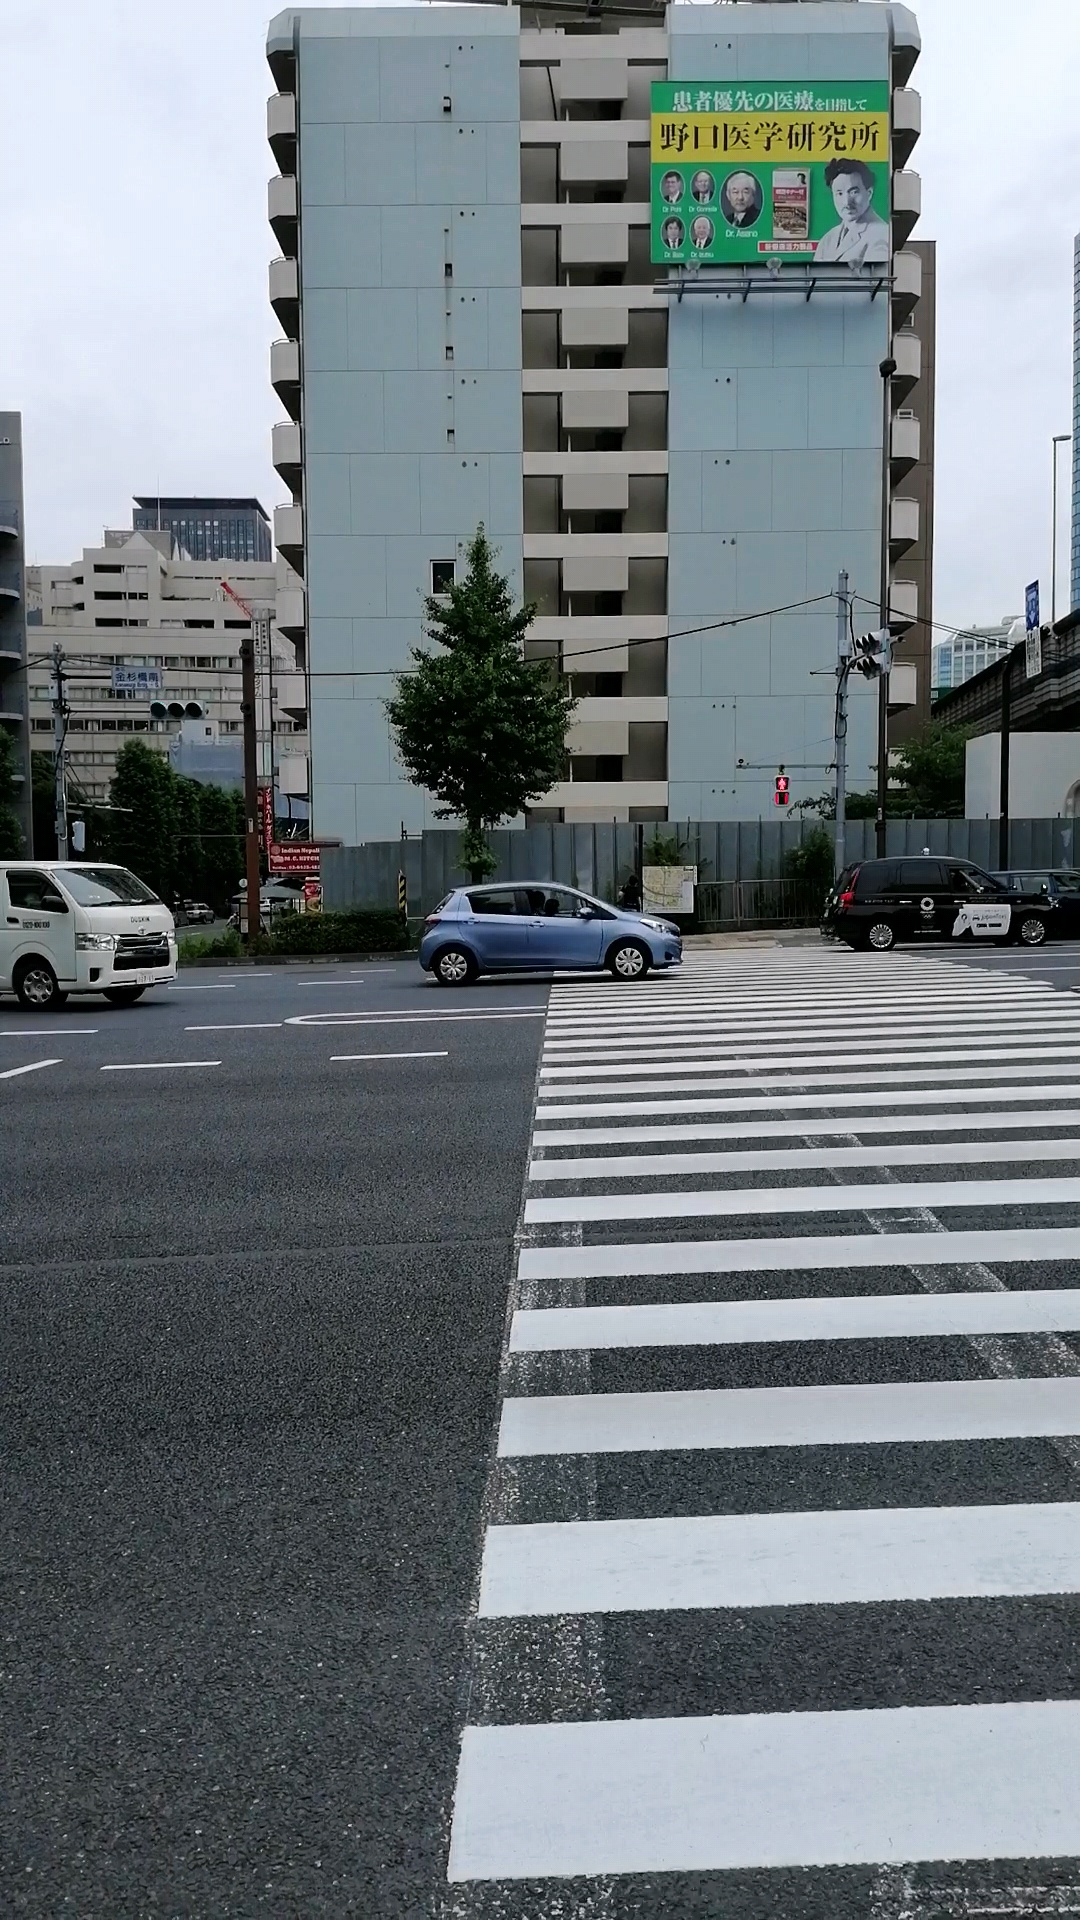red: (771, 773, 790, 807)
